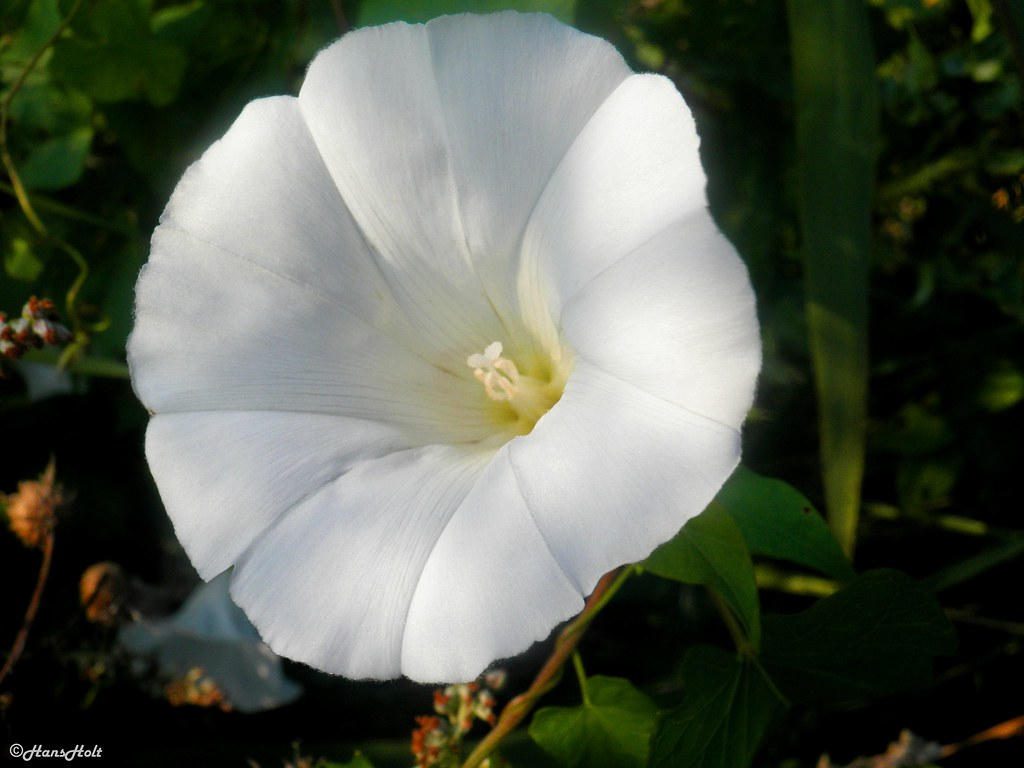haagwinde: (101, 5, 801, 708)
